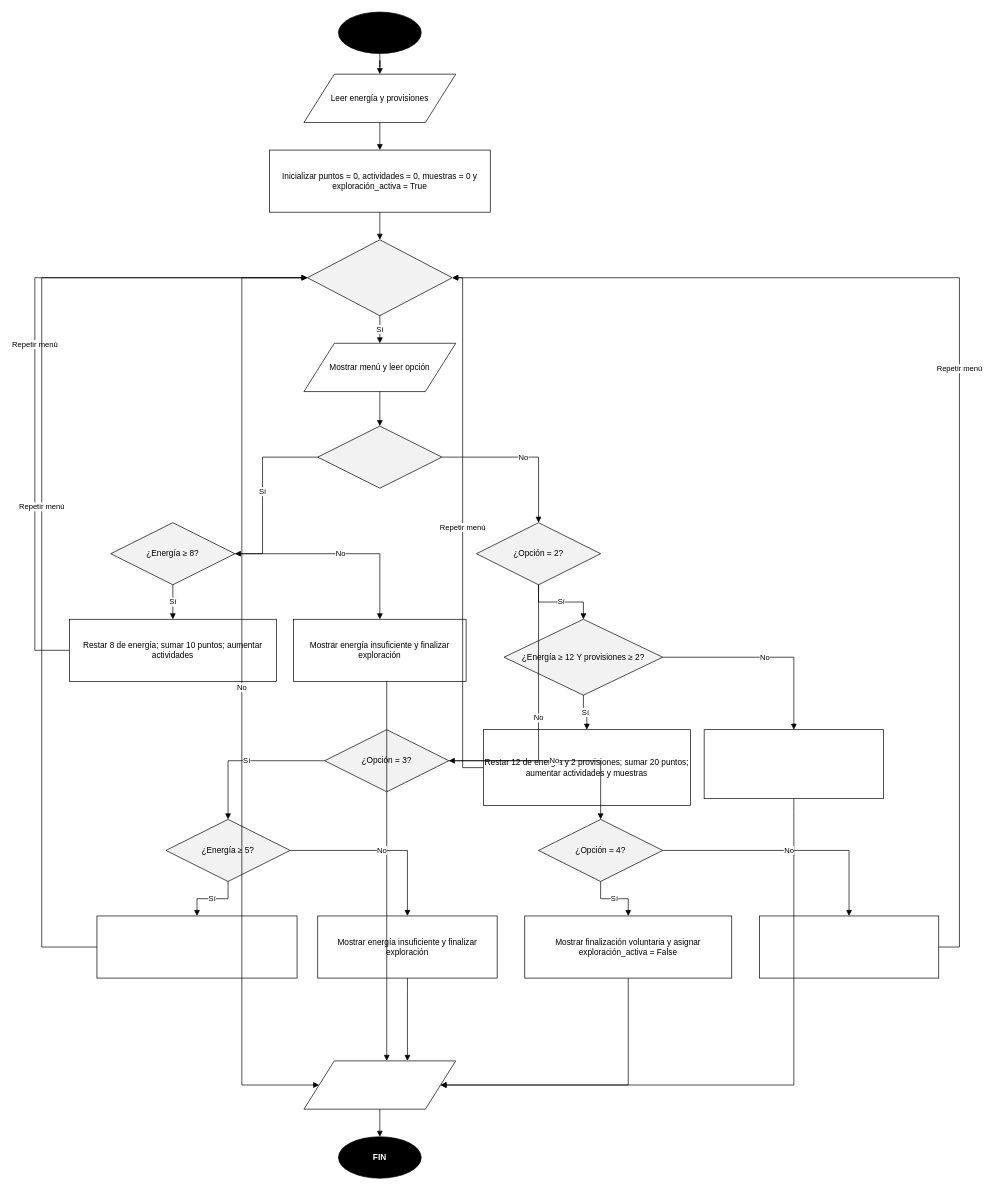
The diagram is 994 pixels wide and 1190 high, and some of its shapes have lost their labels. The shapes that lost their labels are listed below. From the top down, each one's box as (x1, y1, x2, y2) in pixels, then its label:
(338, 11, 421, 53): INICIO
(307, 239, 452, 316): ¿exploración_activa = True?
(317, 425, 442, 488): ¿Opción = 1?
(703, 729, 884, 799): Mostrar recursos insuficientes y finalizar exploración
(96, 915, 297, 978): Restar 5 de energía; sumar 8 puntos; aumentar actividades
(759, 915, 939, 978): Mostrar “Opción no válida” sin modificar valores
(303, 1060, 456, 1109): Mostrar resumen final
